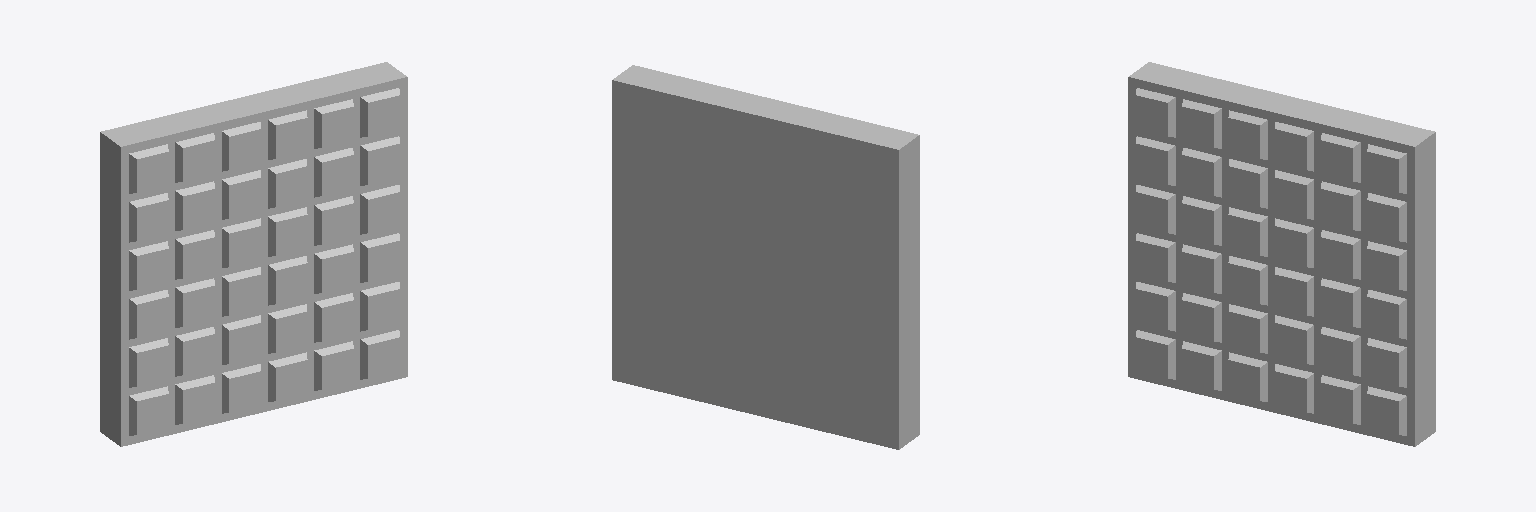
The model's file is Floor_Tiles.obj.
3 renders of one model, left to right at view 1: azimuth 30°, elevation 25°; view 2: azimuth 150°, elevation 25°; view 3: azimuth 330°, elevation 25°, orthographic.
Visible parts, largest first — view 1: Floor_Tiles.001_Cube.020; view 2: Floor_Tiles.001_Cube.020; view 3: Floor_Tiles.001_Cube.020.
Part boxes in pixels (left/top/right/bottom): Floor_Tiles.001_Cube.020: left=100, top=62, right=407, bottom=446; Floor_Tiles.001_Cube.020: left=612, top=65, right=919, bottom=449; Floor_Tiles.001_Cube.020: left=1128, top=62, right=1435, bottom=446.
Bounding box in the file's own units: 4 × 4 × 0.6009.